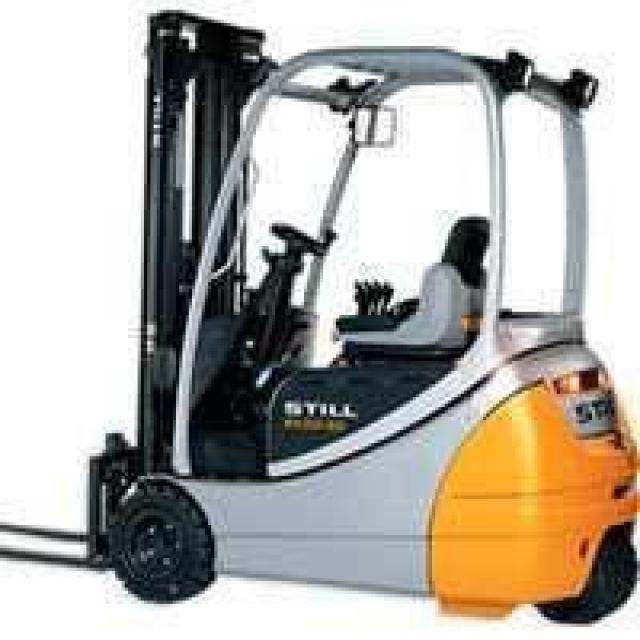Chariot elevateur: (0, 6, 637, 627)
